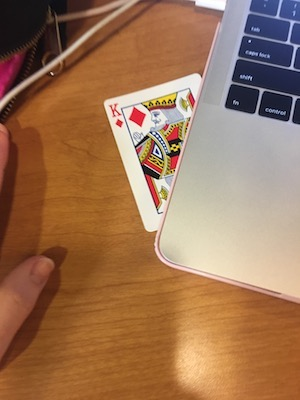KingOfDiamonds: (101, 67, 205, 241)
